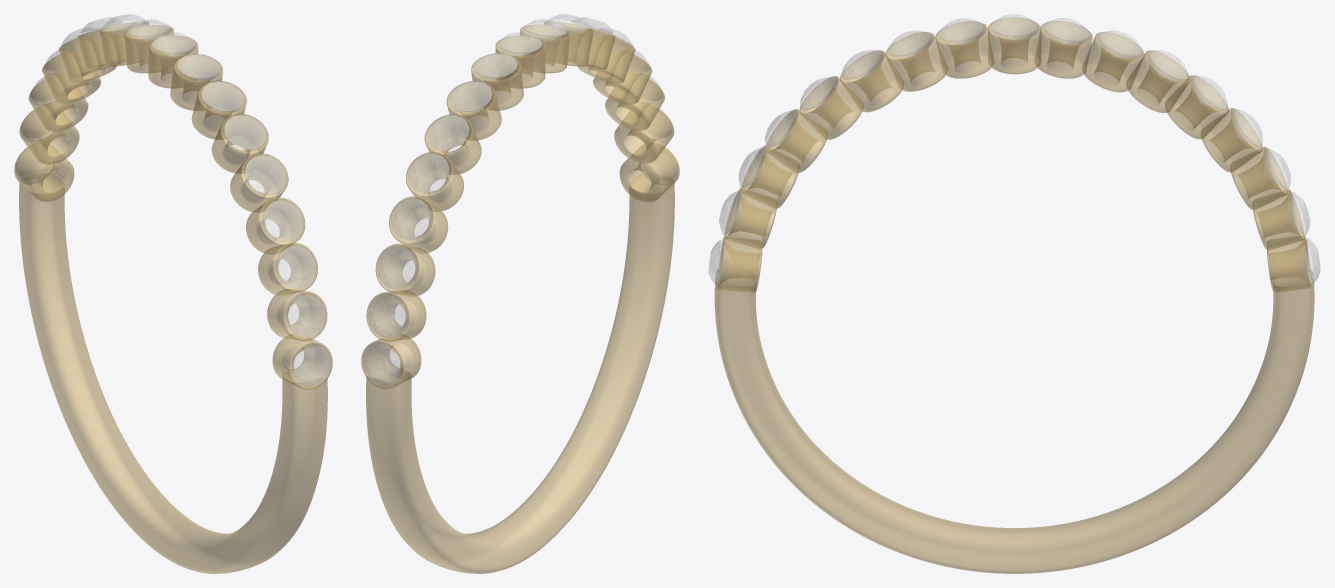
The picture shows the model from 3 angles, left to right: view 1: azimuth 30°, elevation 25°; view 2: azimuth 150°, elevation 25°; view 3: azimuth 270°, elevation 25°; orthographic projection. The views are drawn at different scales.
Visible parts, largest first — view 1: ring, diamond; view 2: ring, diamond; view 3: ring, diamond.
Boxes of the visible parts, x1,y1,x2,y2 form: ring: [14, 21, 332, 573]; diamond: [16, 14, 330, 387]; ring: [361, 21, 679, 573]; diamond: [362, 14, 677, 386]; ring: [714, 18, 1314, 573]; diamond: [708, 14, 1320, 284].
Size of the model in its own units: 0.2023 by 2.3 by 2.32.
